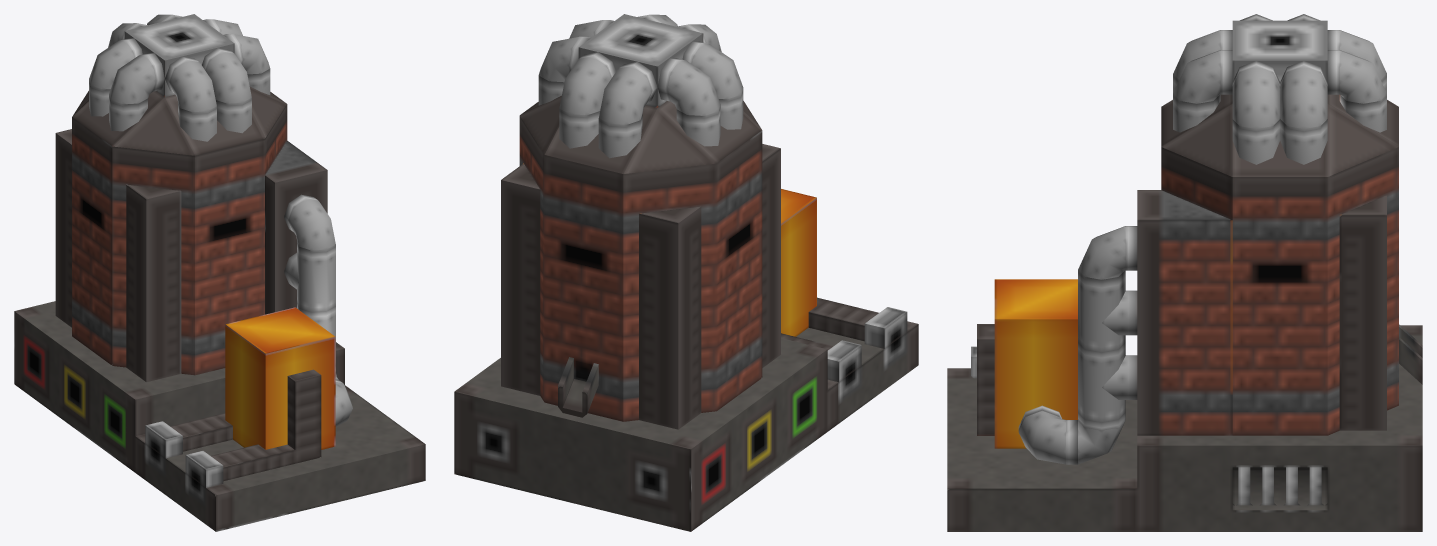
File: rotary_furnace.obj
The picture shows the model from 3 angles, left to right: view 1: azimuth 30°, elevation 25°; view 2: azimuth 150°, elevation 25°; view 3: azimuth 270°, elevation 25°; orthographic projection. The views are drawn at different scales.
Visible parts, largest first — view 1: Furnace; view 2: Furnace; view 3: Furnace.
Part boxes in pixels (box(x1,y1,x2,y2)): Furnace: box(14, 14, 425, 531); Furnace: box(454, 14, 918, 531); Furnace: box(947, 14, 1422, 531).
Size of the model in its own units: 3 by 5 by 5.
